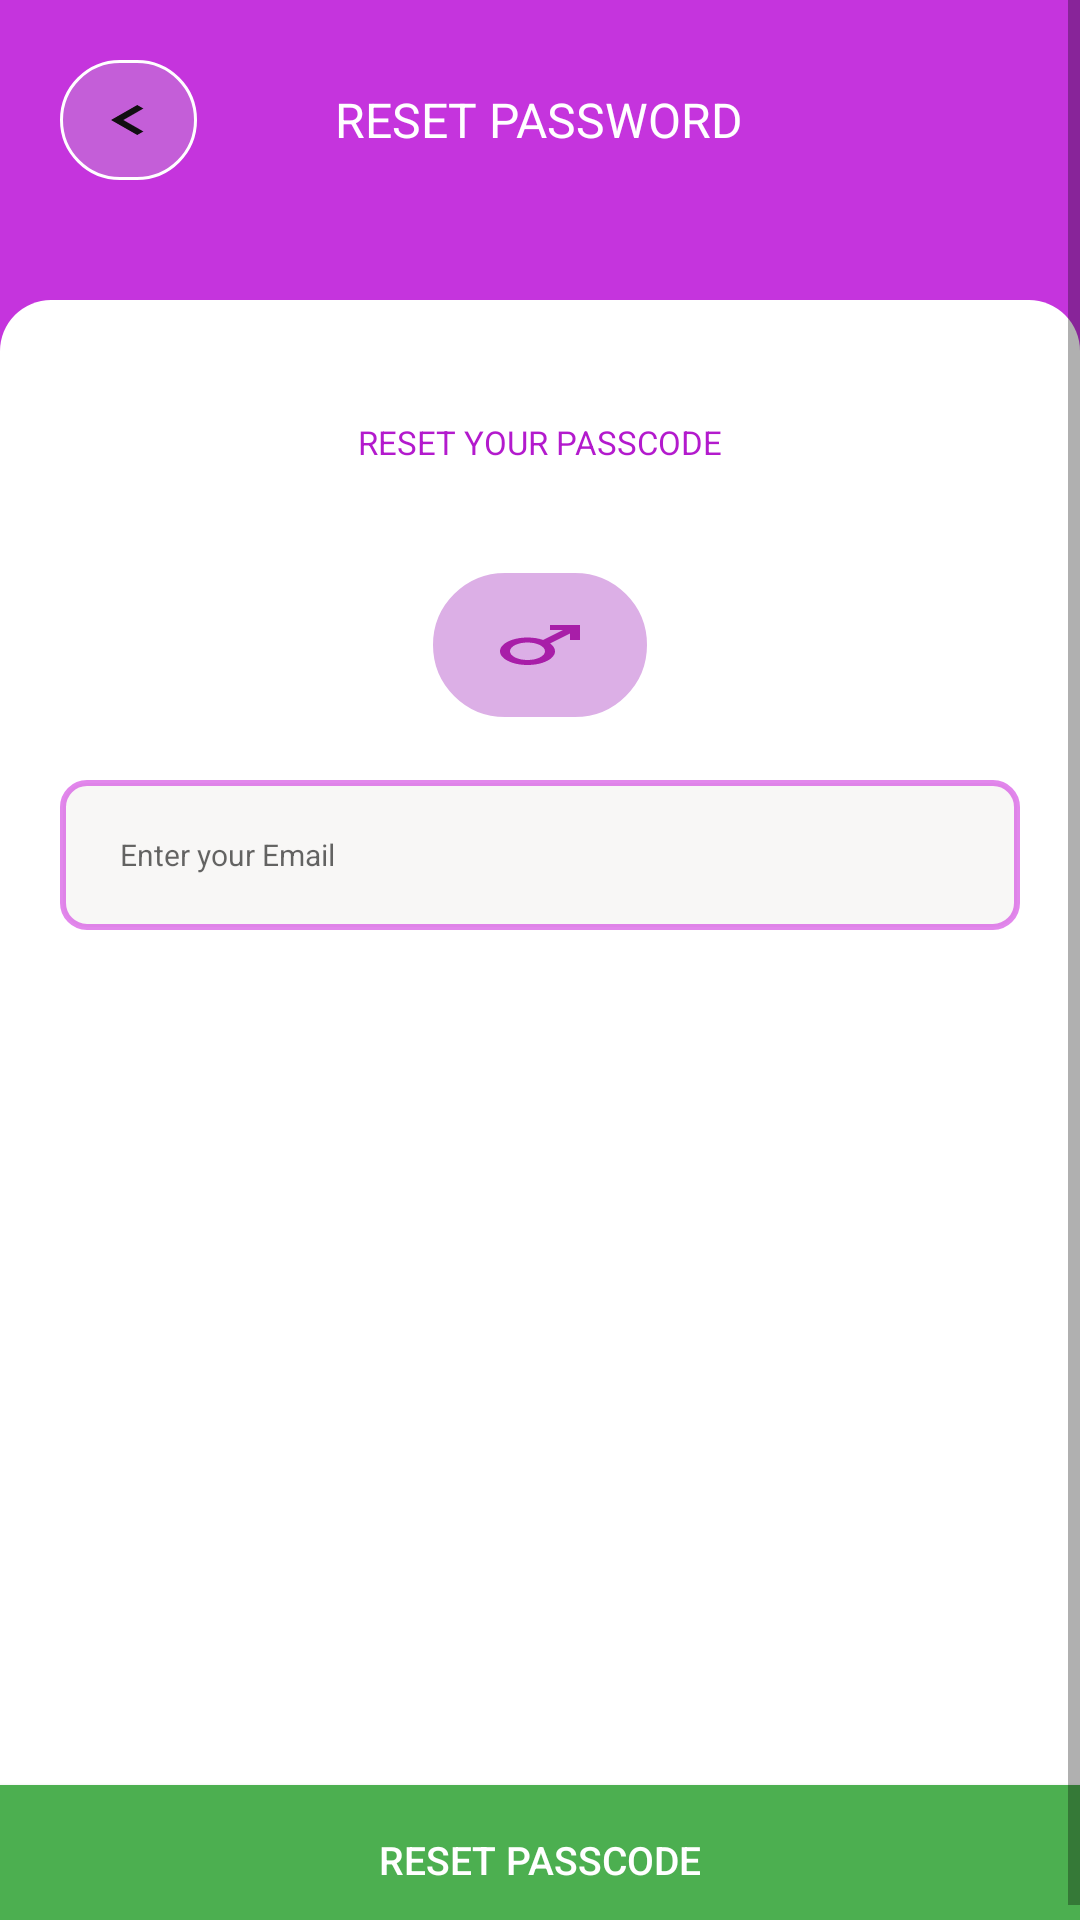

Screen size 1080px x 1920px. Icon name, then its center in pixels as (x=x, y=y):
chevron left: (x=127, y=120)
male: (x=540, y=645)
